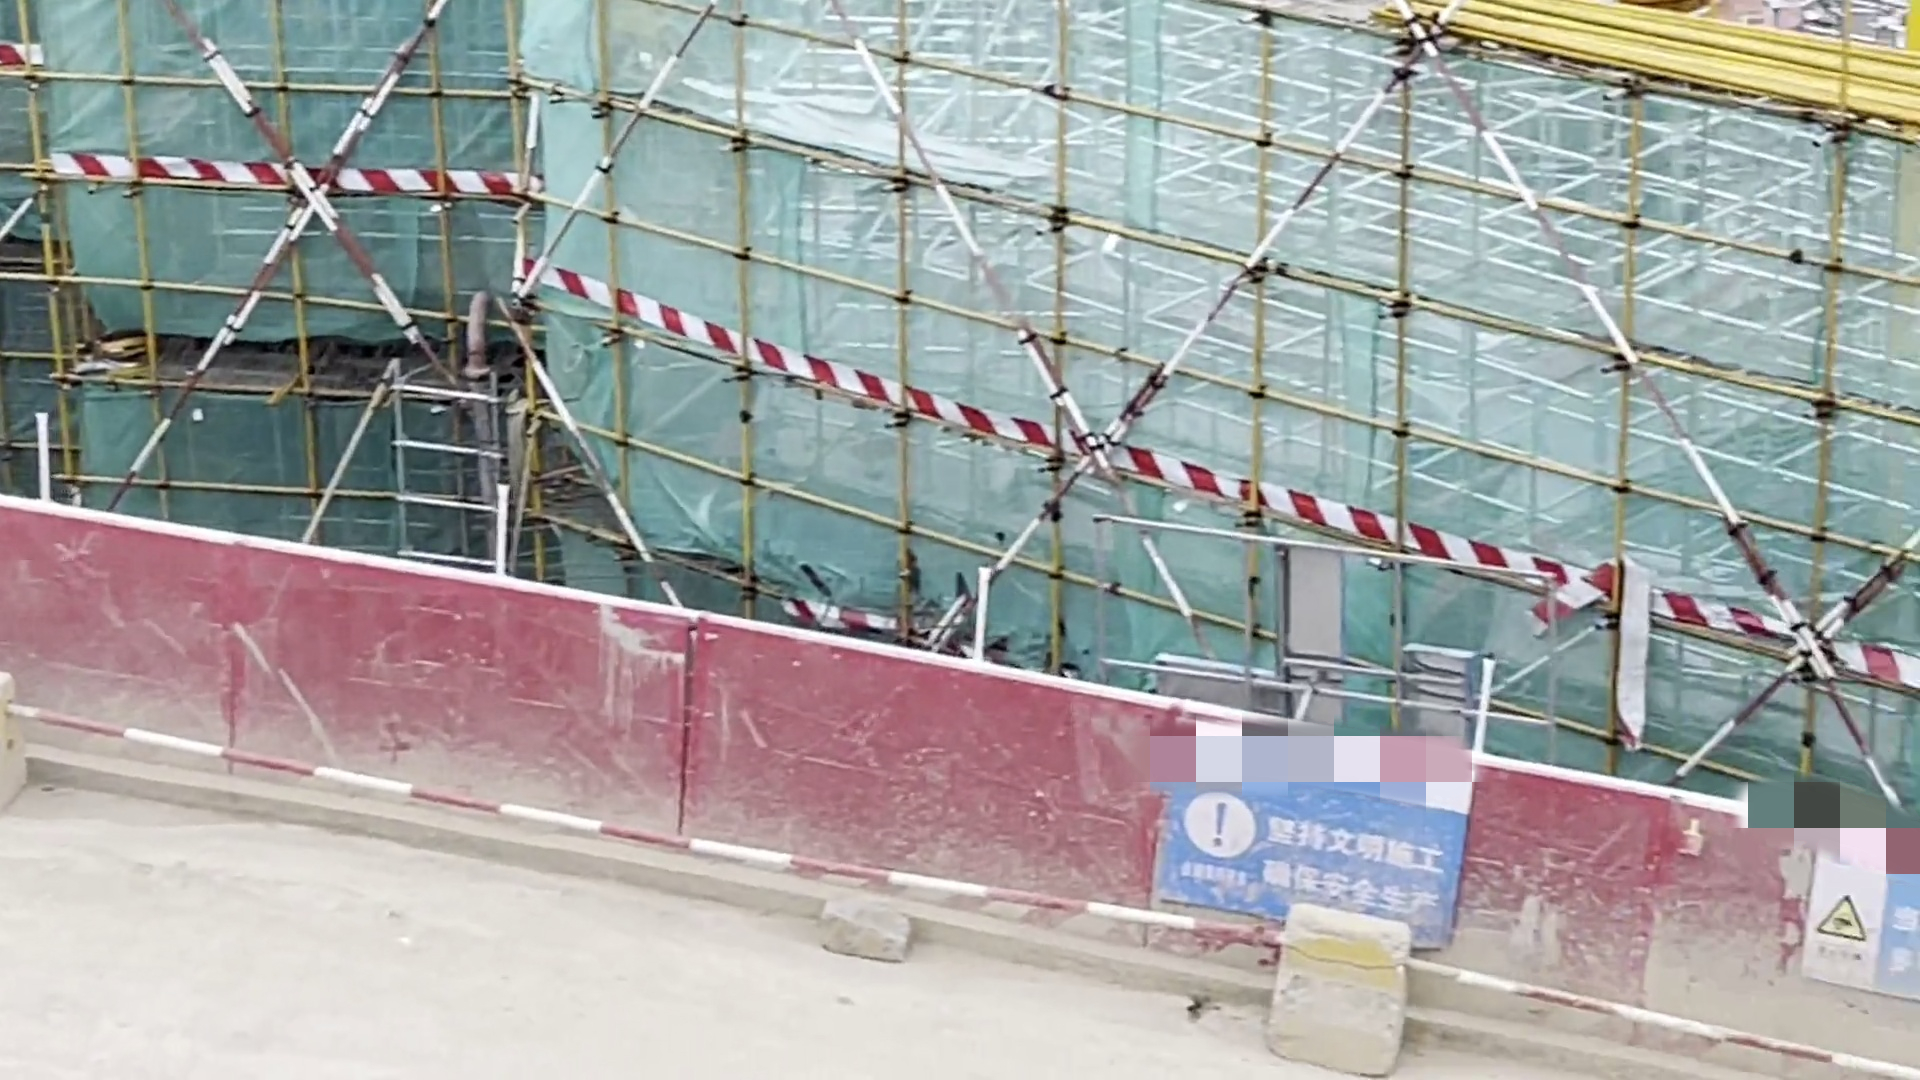fence: (1, 495, 1712, 1046)
slogan: (1172, 764, 1447, 967), (1820, 865, 1920, 978)
